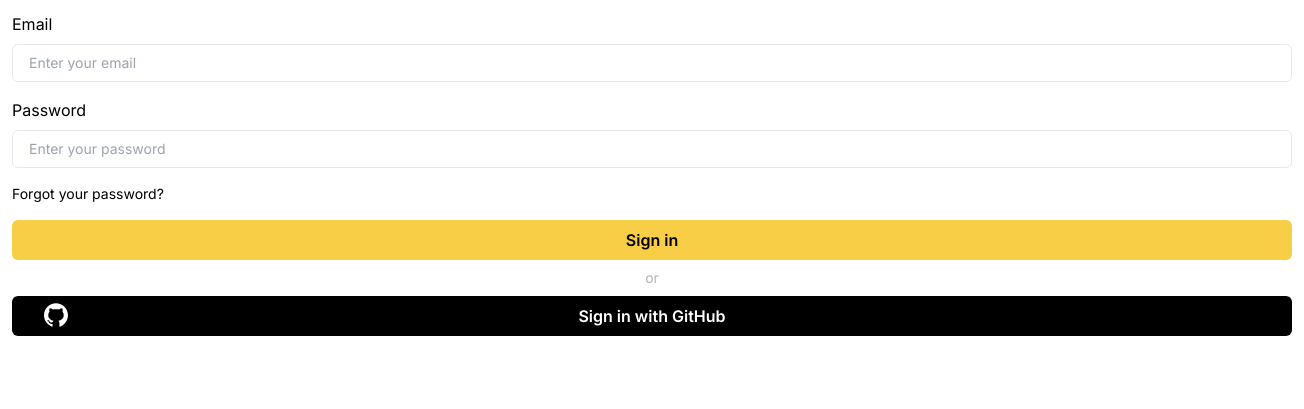
Test: LoginForm › should display validation errors for empty fields
Click the button "Sign in" at (652, 240), box x1=12 y1=220 x2=1292 y2=260
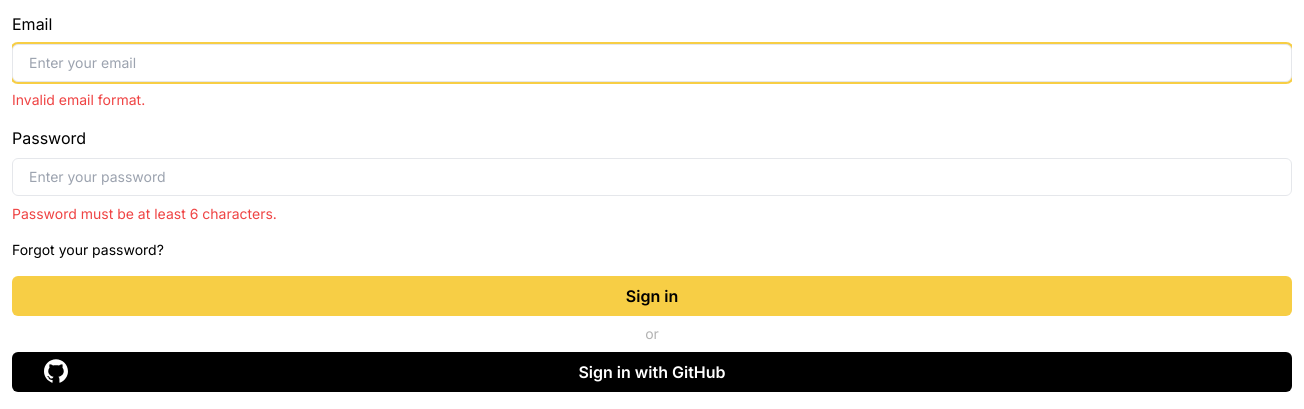
Check: the text "Invalid email format." is shown, box x1=12 y1=91 x2=145 y2=108
Check: the text "Password must be at least 6 characters." is shown, box x1=12 y1=205 x2=277 y2=222
